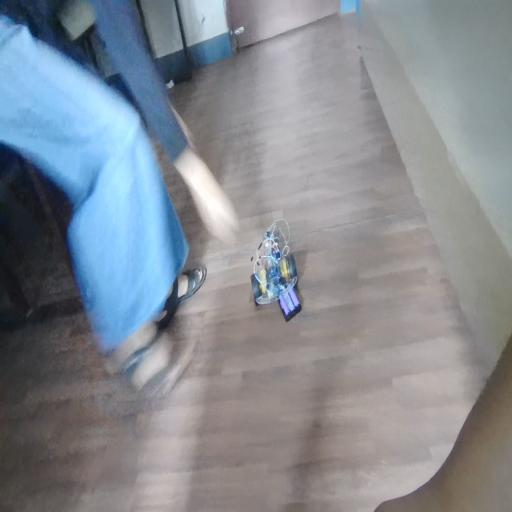car: (256, 243, 321, 317)
